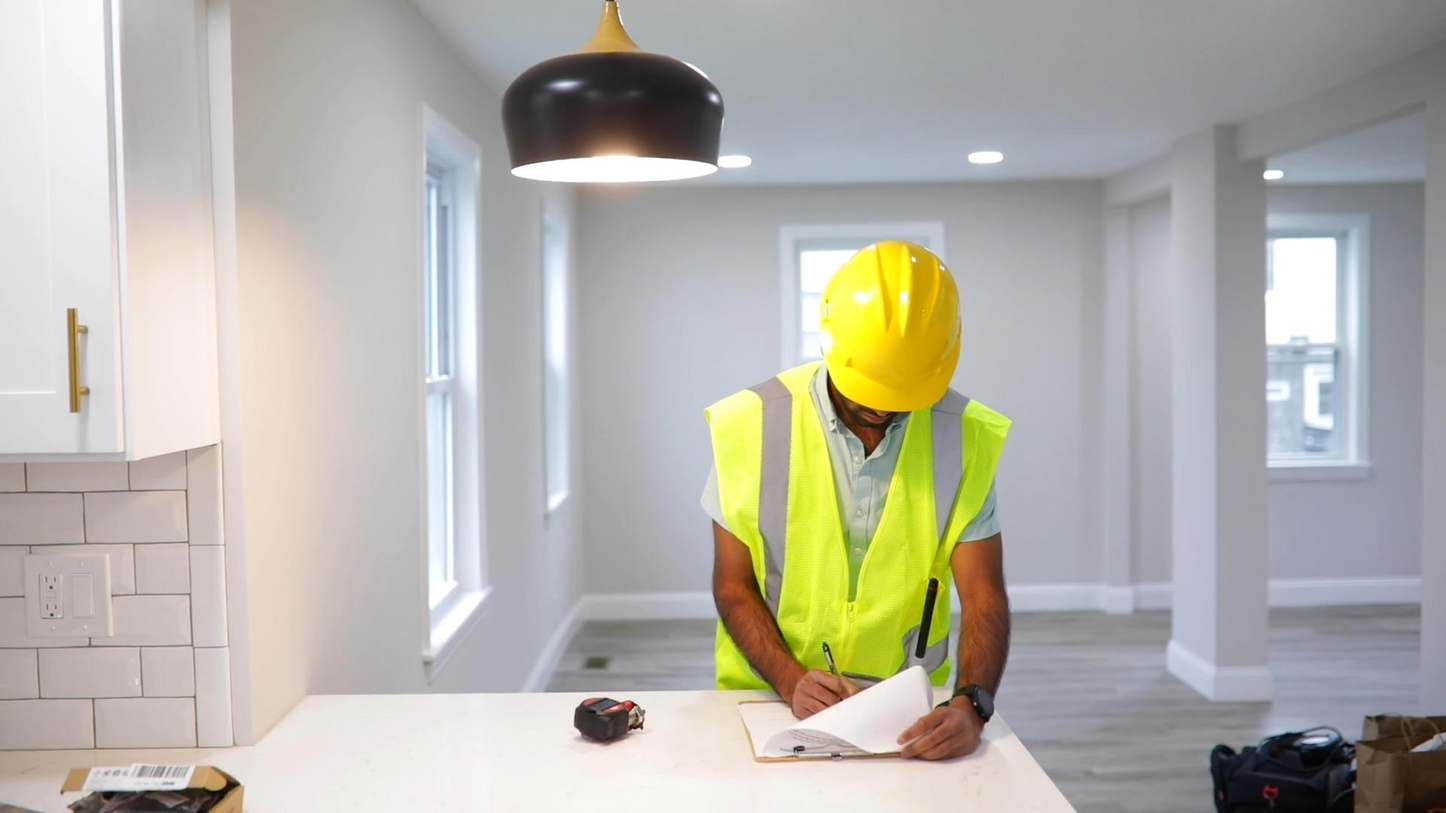Helmet: (812, 254, 972, 398)
Person: (699, 239, 1012, 761)
Safety Vest: (734, 385, 983, 695)
bare-arms: (901, 690, 984, 760), (797, 657, 867, 727)
